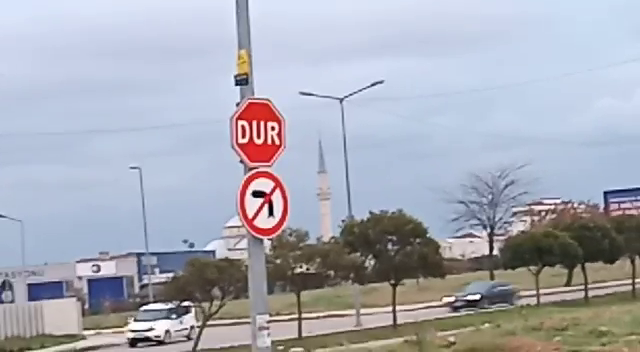no_left: (234, 168, 293, 243)
stop: (227, 95, 288, 170)
